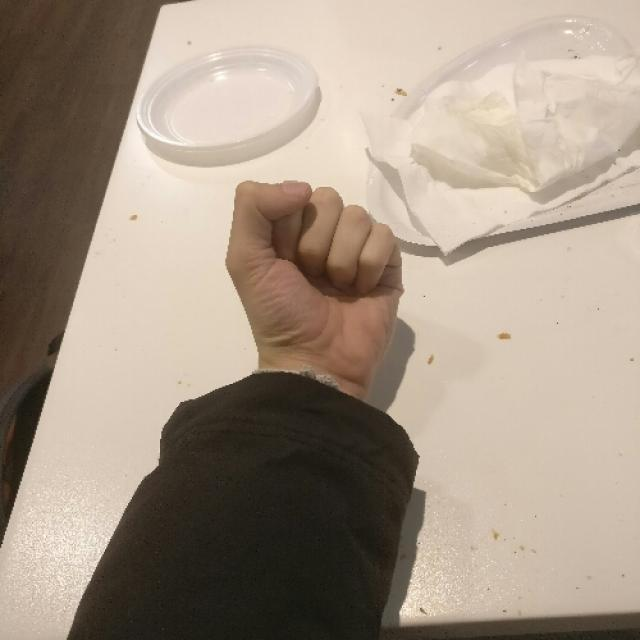rock: (226, 176, 402, 382)
